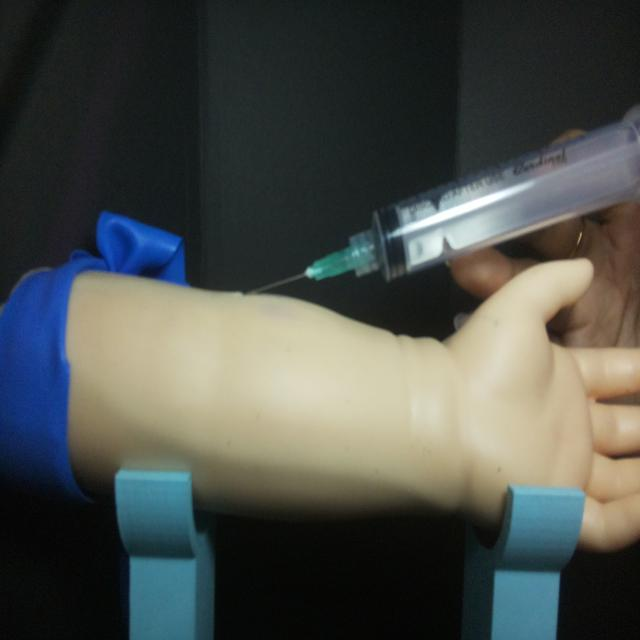19deg: (242, 101, 638, 300)
